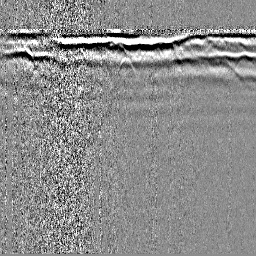cavity: (116, 55, 136, 78)
